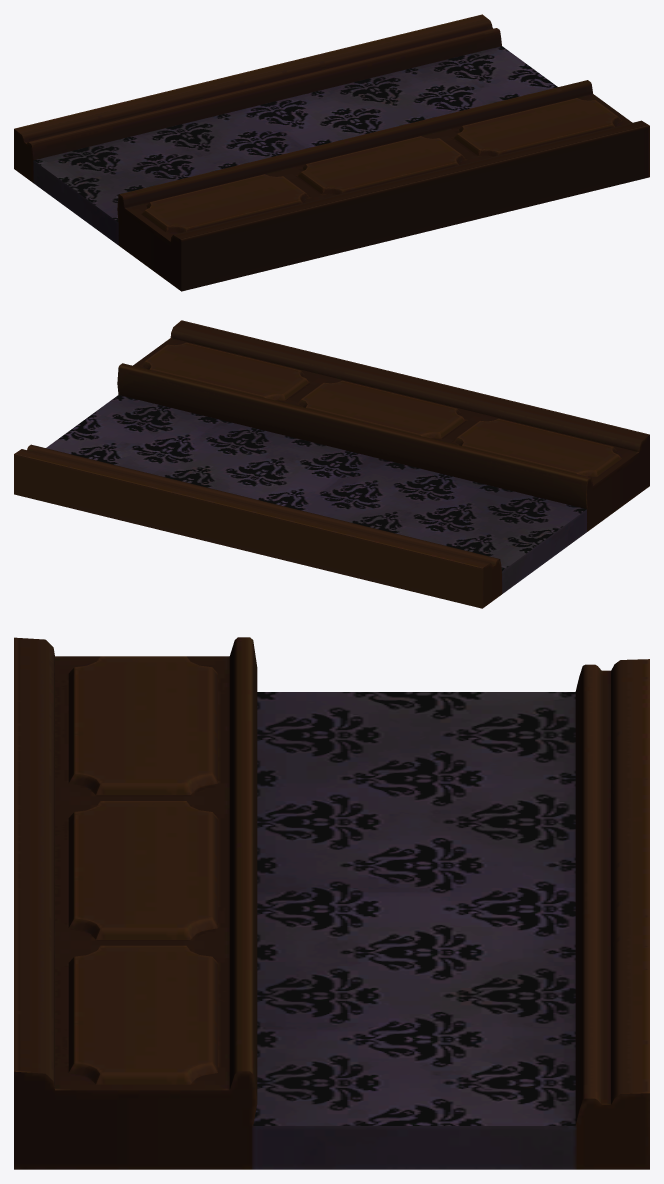
Rendered from SpookyWallSectionB.fbx.
The picture shows the model from 3 angles, top to bottom: view 1: azimuth 30°, elevation 25°; view 2: azimuth 150°, elevation 25°; view 3: azimuth 270°, elevation 25°; orthographic projection. The views are drawn at different scales.
Visible parts, largest first — view 1: SpookyWallSectionB; view 2: SpookyWallSectionB; view 3: SpookyWallSectionB.
Boxes of the visible parts, x1=… form: SpookyWallSectionB: x1=14, y1=14, x2=649, y2=291; SpookyWallSectionB: x1=14, y1=320, x2=649, y2=608; SpookyWallSectionB: x1=14, y1=637, x2=649, y2=1169.
Bounding box in the file's own units: 323 × 34.11 × 200.
